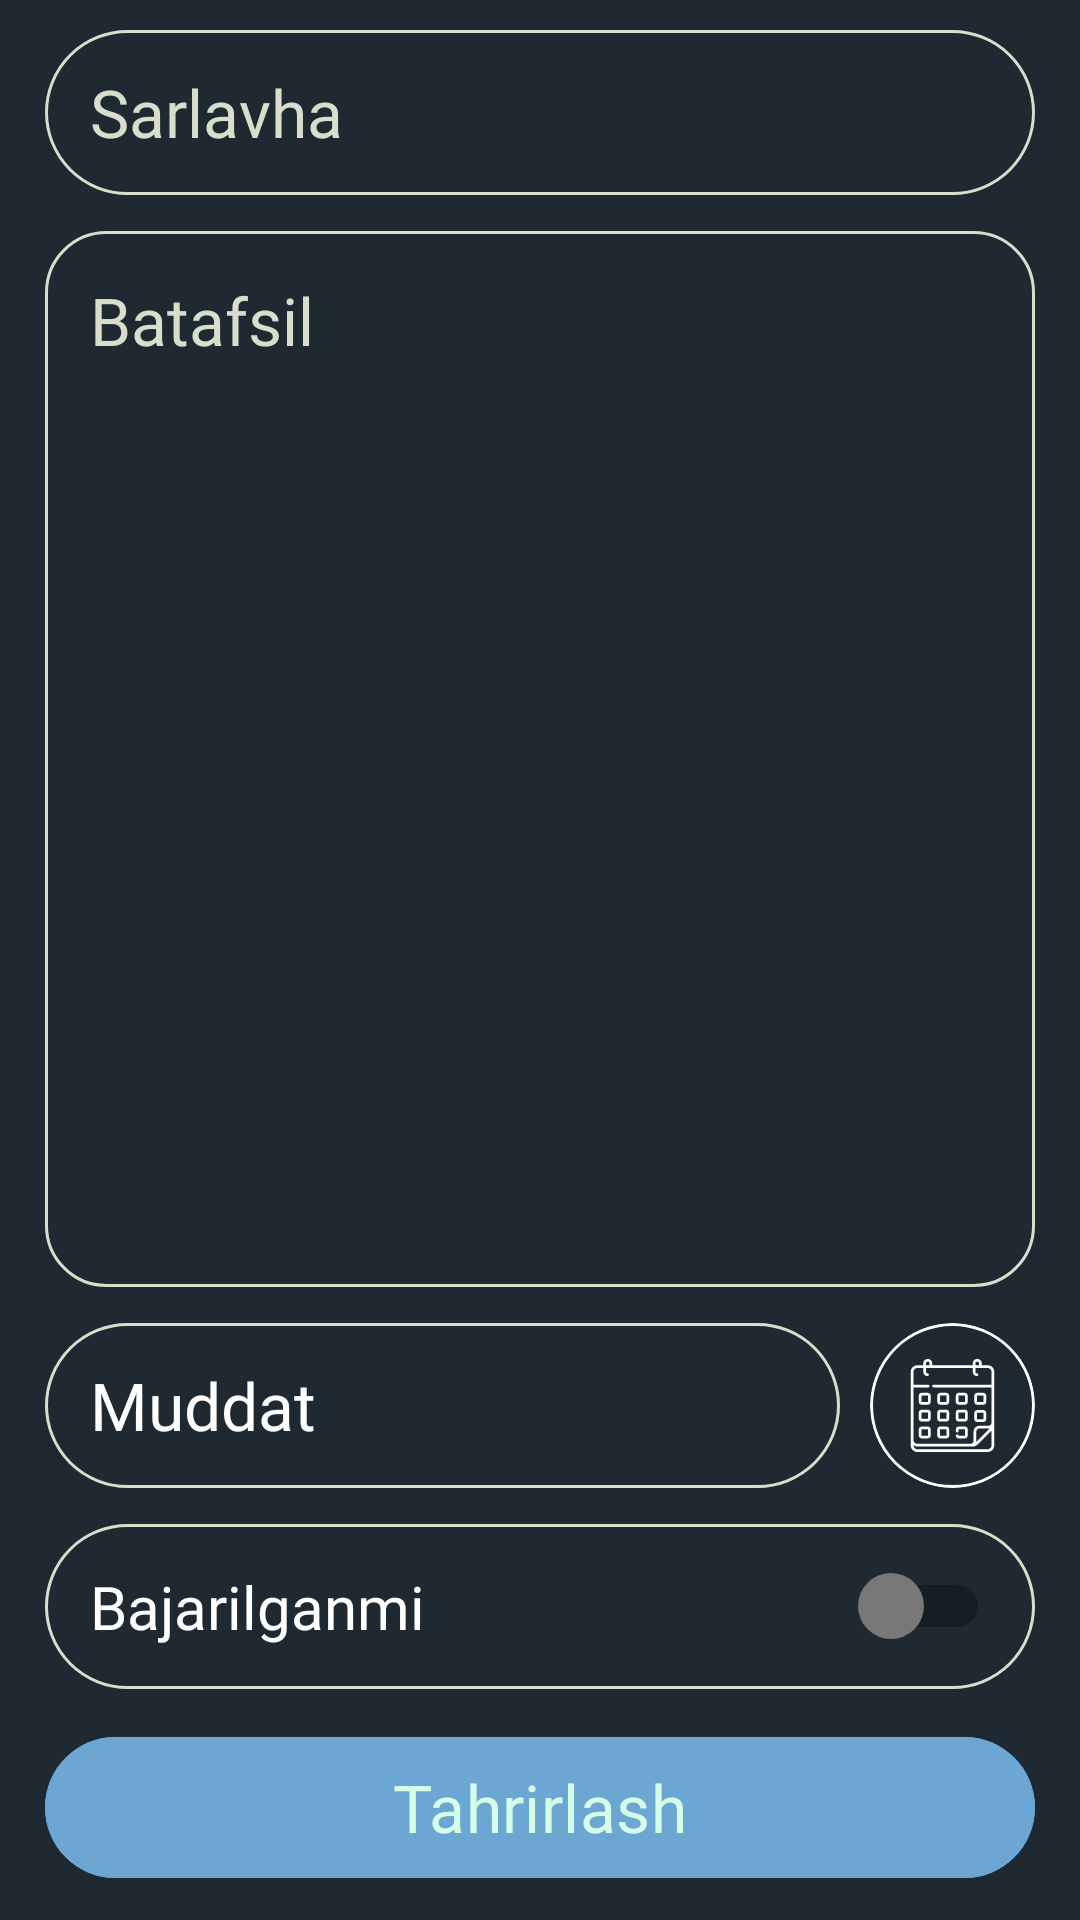

Locate icon controls on the screen. Image size 1080w x 1920h, boxes as (x1, y1, x2, y2).
calendar: (870, 1323, 1035, 1488)
